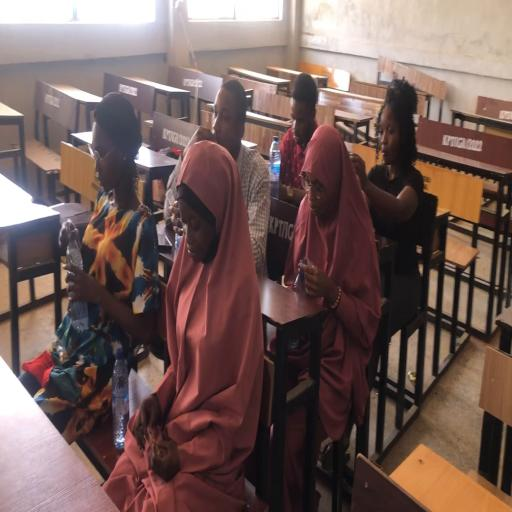Eating: (94, 127, 270, 506), (106, 138, 264, 508), (288, 124, 382, 504), (359, 80, 426, 292)
Usingmobile: (342, 72, 427, 388)
